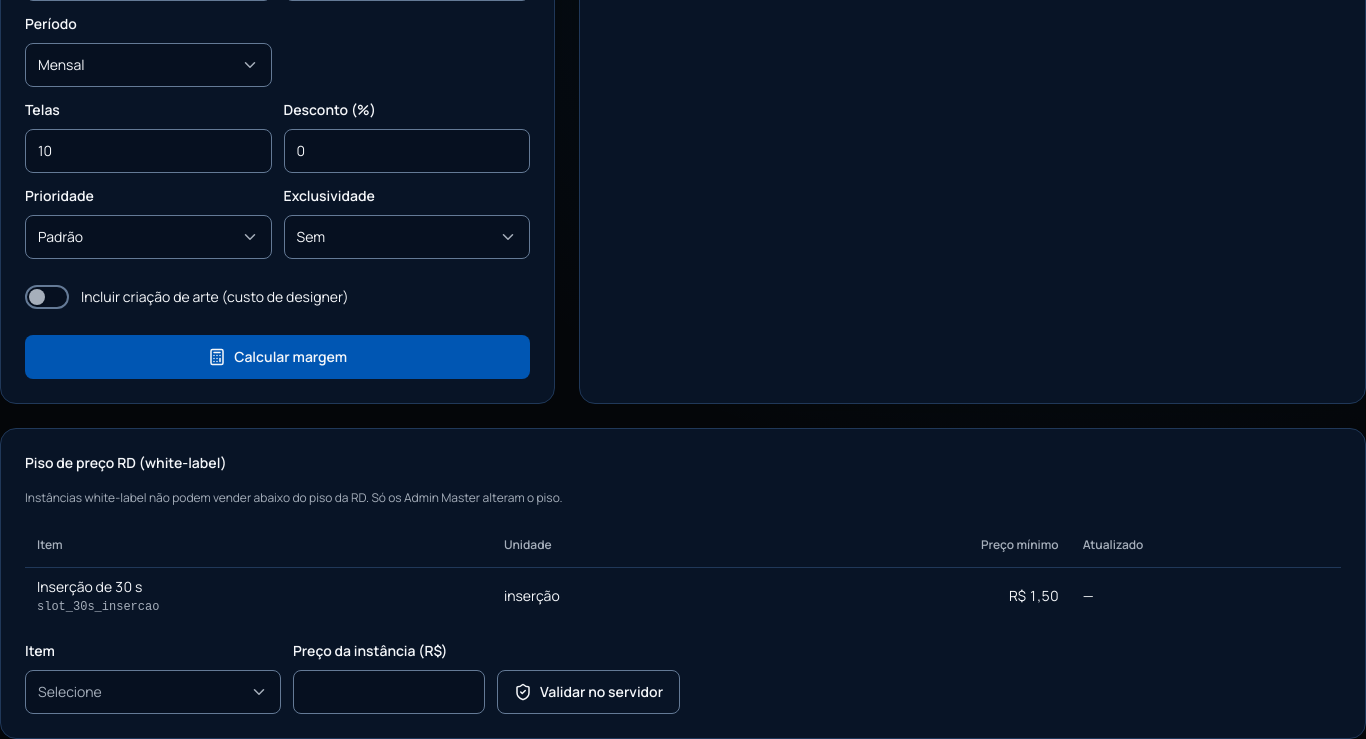
Test: piso de preço RD (white-label) › margem: validação do piso no servidor exibe o mínimo formatado
This screenshot has width=1366, height=739.
(page scrolled)
Click the dropdown named "Item" at (153, 692), box x1=25 y1=670 x2=281 y2=714
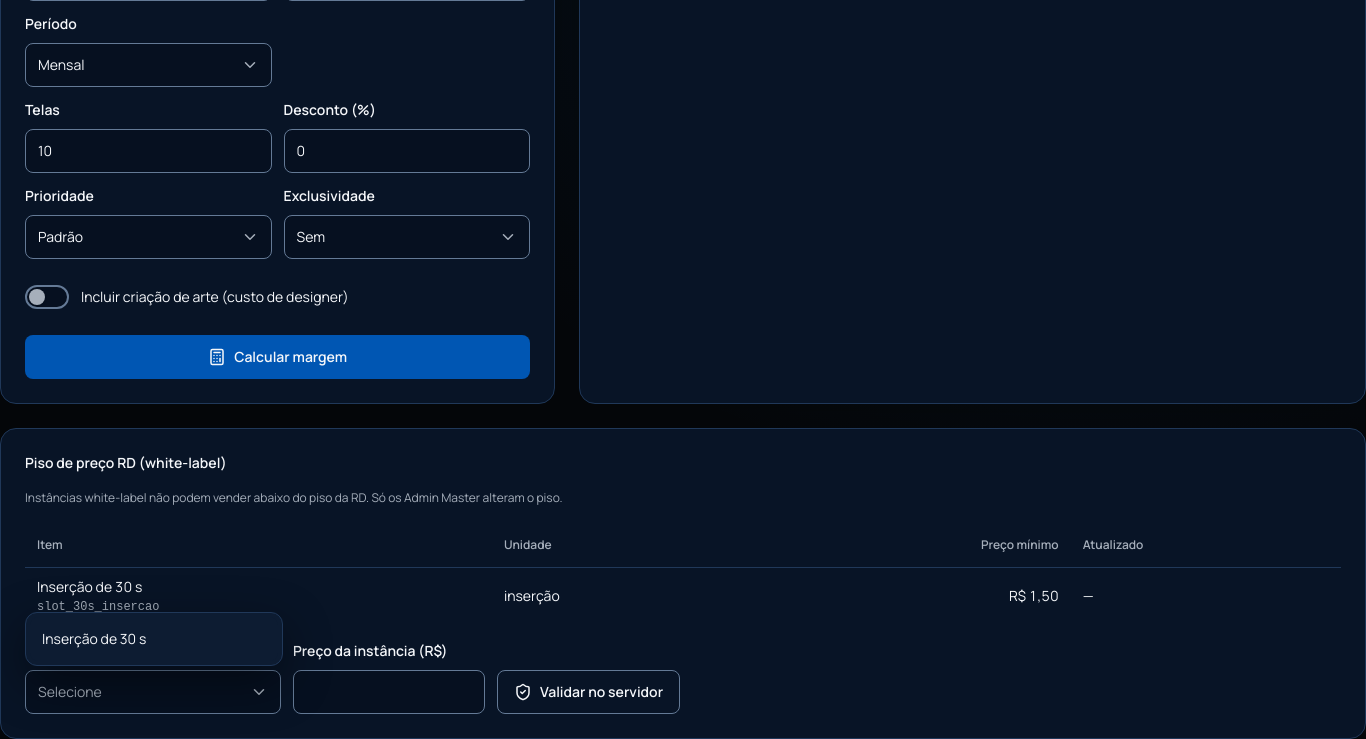
Click the option "Inserção de 30 s" at (154, 639), box x1=30 y1=617 x2=278 y2=661
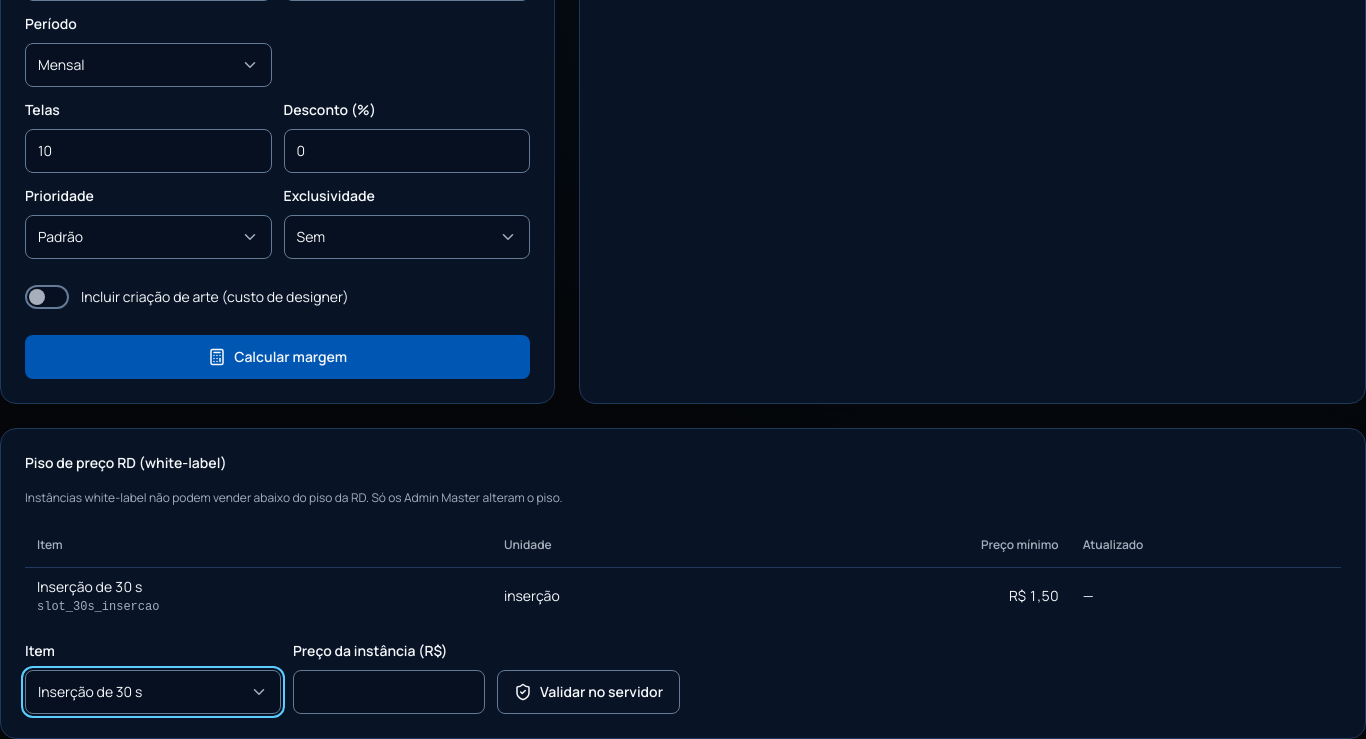
Type "1,00" into the field labelled "Preço da instância (R$)" at (389, 692), box x1=293 y1=670 x2=485 y2=714
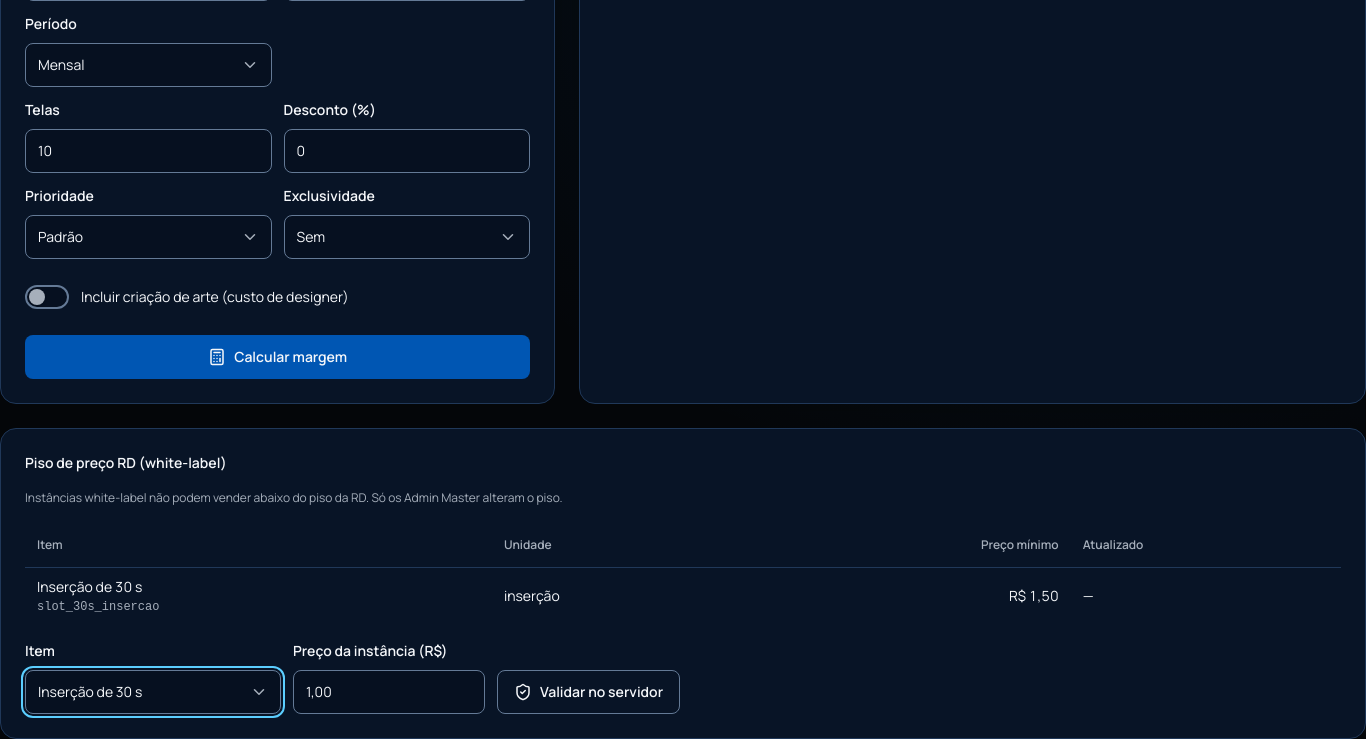
Click the button "Validar no servidor" at (589, 692), box x1=497 y1=670 x2=680 y2=714
(page scrolled)
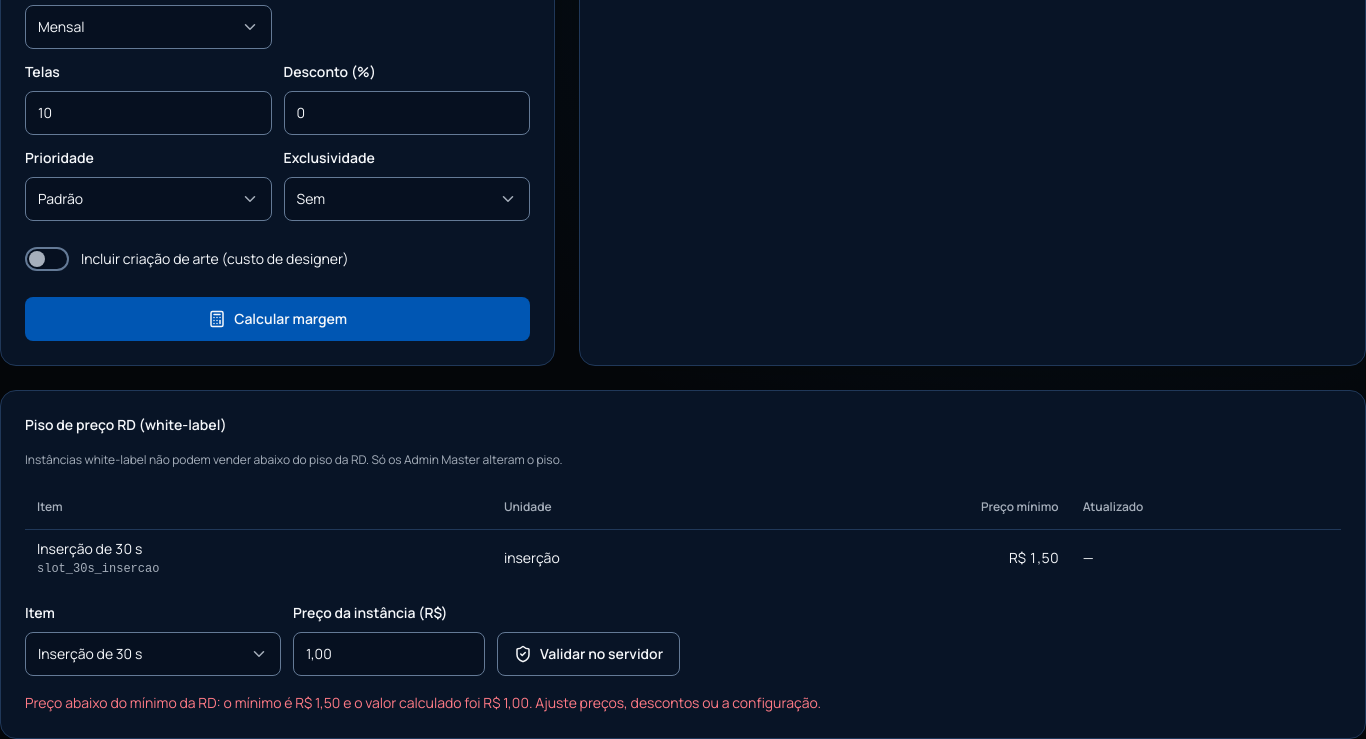
Check: the text "o mínimo é R$ 1,50 e o valor calculado foi R$ 1,00" is shown, box x1=25 y1=692 x2=821 y2=712
